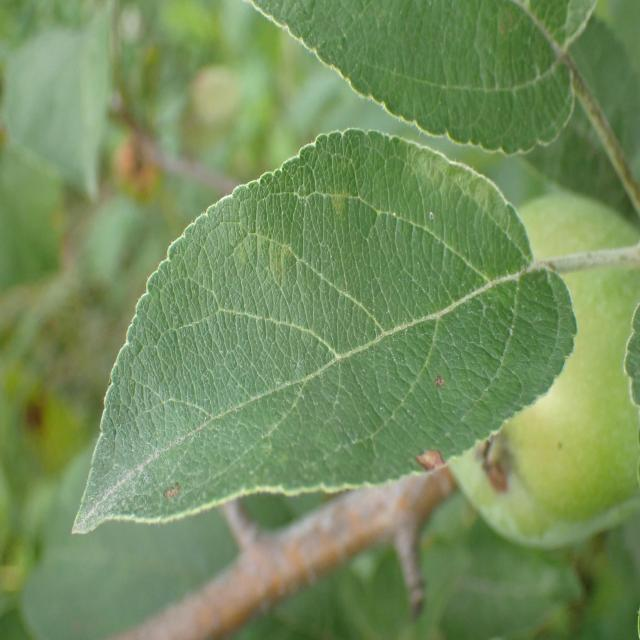scab: (101, 137, 535, 505)
